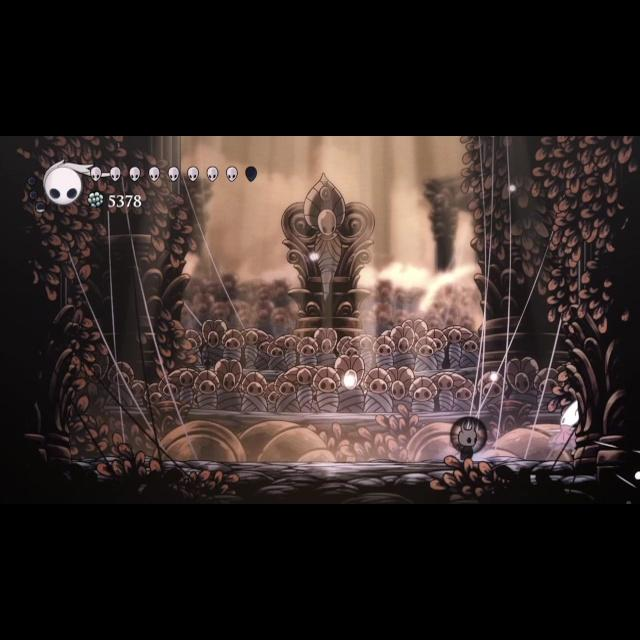EnemyLeadIn: (527, 392, 589, 464)
Player: (454, 415, 482, 467)
